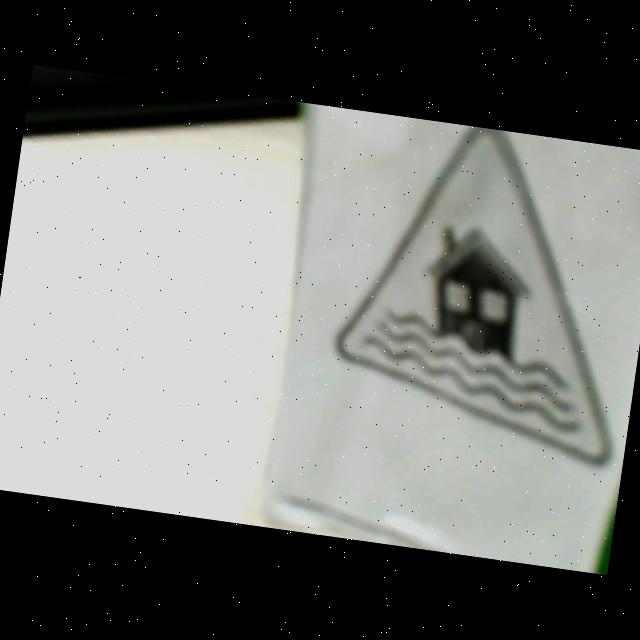Tsunami: (342, 129, 610, 465)
